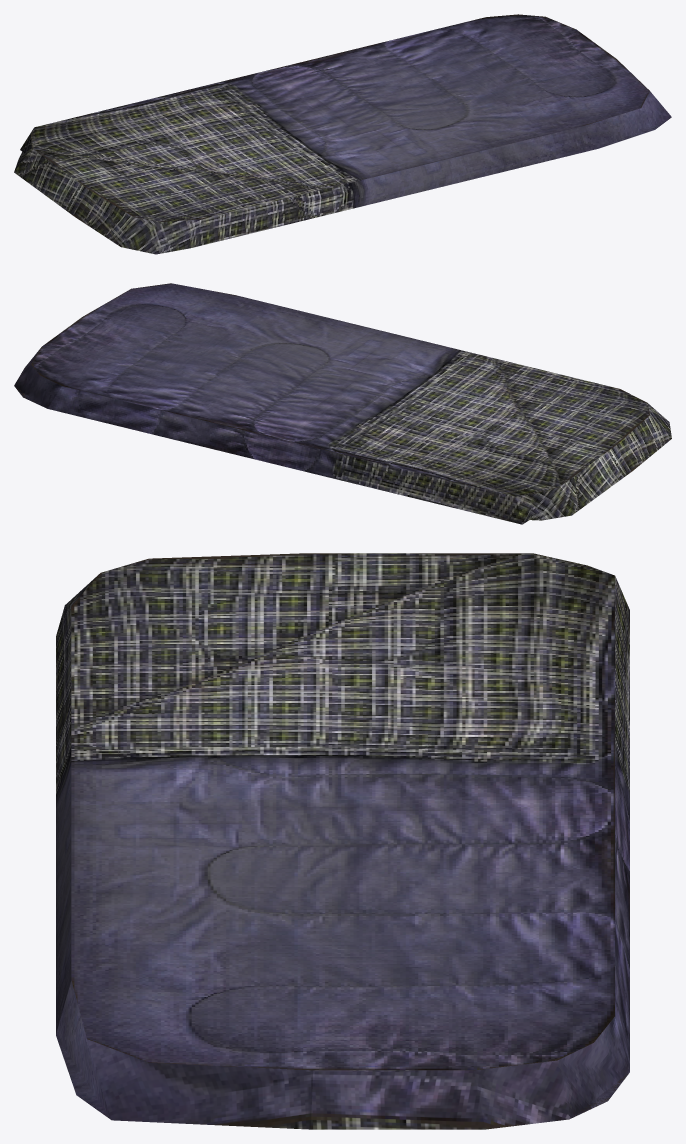
File: sleepingbag.glb
The picture shows the model from 3 angles, top to bottom: view 1: azimuth 30°, elevation 25°; view 2: azimuth 150°, elevation 25°; view 3: azimuth 270°, elevation 25°; orthographic projection. The views are drawn at different scales.
Parts seen in each view (by area): view 1: Cube; view 2: Cube; view 3: Cube.
Part boxes in pixels (box(x1,y1,x2,y2)): Cube: box(14, 14, 671, 254); Cube: box(14, 283, 671, 524); Cube: box(56, 553, 629, 1129).
Bounding box in the file's own units: 2.71 × 0.1046 × 1.2.
Materials: 1 (1 with a texture image).
